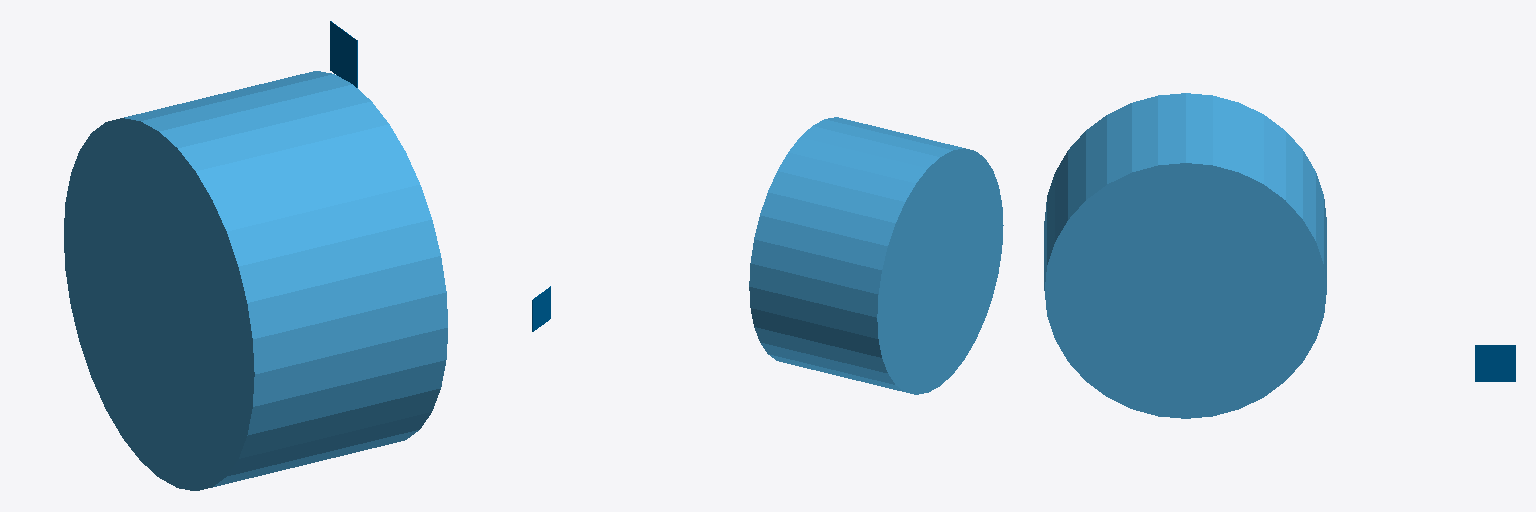
URDF robot description (fanuc_lrmate200id7l):
<?xml version="1.0" ?>
<!-- =================================================================================== -->
<!-- |    This document was autogenerated by xacro from [local-path]/Documents/0LAB/LTL/src/stmotion_controller/simulation/urdf/fanuc_arm.xacro | -->
<!-- |    EDITING THIS FILE BY HAND IS NOT RECOMMENDED                                 | -->
<!-- =================================================================================== -->
<robot name="fanuc_lrmate200id7l">
    <link name="world" />
    <joint name="world_fixed" type="fixed">
        <parent link="world" />
        <child link="base" />
    </joint>
    <!-- ROS-Industrial 'base' frame: base_link to Fanuc World Coordinates transform -->
    <link name="base" />
    <joint name="base_link-base" type="fixed">
        <origin rpy="0 0 0" xyz="0 0 0.0" />
        <parent link="base" />
        <child link="base_link" />
    </joint>
    <!-- links: main serial chain -->
    <link name="base_link">
        <inertial>
            <origin rpy="0 0 0" xyz="-0.073983 0.00022734 0.13031" />
            <mass value="42.212" />
            <inertia ixx="0.64296" ixy="0.0012624" ixz="-0.068804" iyy="1.2709" iyz="-0.0010754" izz="1.3497" />
        </inertial>
        <visual>
            <origin rpy="0 0 0" xyz="0 0 0" />
            <geometry>
                <mesh filename="file://[local-path]/Documents/0LAB/LTL/src/stmotion_controller/simulation/meshes/visual/base_link.stl" />
            </geometry>
            <material name="">
                <color rgba="0.2784313725490196 0.2784313725490196 0.2784313725490196 1.0" />
            </material>
        </visual>
        <collision>
            <origin rpy="0 0 0" xyz="0 0 0" />
            <geometry>
                <mesh filename="file://[local-path]/Documents/0LAB/LTL/src/stmotion_controller/simulation/meshes/collision/base_link.stl" />
            </geometry>
        </collision>
    </link>
    <link name="link_1">
        <inertial>
            <origin rpy="0 0 0" xyz="0.058962 0.24363 -0.018725" />
            <mass value="37.265" />
            <inertia ixx="0.95018" ixy="-0.14402" ixz="-0.064915" iyy="1.0578" iyz="0.037699" izz="1.094" />
        </inertial>
        <visual>
            <origin rpy="0 0 0" xyz="0 0 0" />
            <geometry>
                <mesh filename="file://[local-path]/Documents/0LAB/LTL/src/stmotion_controller/simulation/meshes/visual/link_1.stl" />
            </geometry>
            <material name="">
                <color rgba="0.96 0.76 0.13 1.0" />
            </material>
        </visual>
        <collision>
            <origin rpy="0 0 0" xyz="0 0 0" />
            <geometry>
                <mesh filename="file://[local-path]/Documents/0LAB/LTL/src/stmotion_controller/simulation/meshes/collision/link_1.stl" />
            </geometry>
        </collision>
    </link>
    <link name="link_2">
        <inertial>
            <origin rpy="0 0 0" xyz="3.5083E-05 0.39008 0.15036" />
            <mass value="22.632" />
            <inertia ixx="1.7745" ixy="-0.0054743" ixz="0.00063015" iyy="0.15511" iyz="-0.09224" izz="1.826" />
        </inertial>
        <visual>
            <origin rpy="0 0 0" xyz="0 0 0" />
            <geometry>
                <mesh filename="file://[local-path]/Documents/0LAB/LTL/src/stmotion_controller/simulation/meshes/visual/link_2.stl" />
            </geometry>
            <material name="">
                <color rgba="0.96 0.76 0.13 1.0" />
            </material>
        </visual>
        <collision>
            <origin rpy="0 0 0" xyz="0 0 0" />
            <geometry>
                <mesh filename="file://[local-path]/Documents/0LAB/LTL/src/stmotion_controller/simulation/meshes/collision/link_2.stl" />
            </geometry>
        </collision>
    </link>
    <link name="link_3">
        <inertial>
            <origin rpy="0 0 0" xyz="0.086423 0.14427 -0.035793" />
            <mass value="28.467" />
            <inertia ixx="0.65771" ixy="-0.13627" ixz="-0.026219" iyy="0.52683" iyz="0.051956" izz="0.69722" />
        </inertial>
        <visual>
            <origin rpy="0 0 0" xyz="0 0 0" />
            <geometry>
                <mesh filename="file://[local-path]/Documents/0LAB/LTL/src/stmotion_controller/simulation/meshes/visual/link_3.stl" />
            </geometry>
            <material name="">
                <color rgba="0.96 0.76 0.13 1.0" />
            </material>
        </visual>
        <collision>
            <origin rpy="0 0 0" xyz="0 0 0" />
            <geometry>
                <mesh filename="file://[local-path]/Documents/0LAB/LTL/src/stmotion_controller/simulation/meshes/collision/link_3.stl" />
            </geometry>
        </collision>
    </link>
    <link name="link_4">
        <inertial>
            <origin rpy="0 0 0" xyz="0.37337 0.00033491 0.012656" />
            <mass value="7.629" />
            <inertia ixx="0.018151" ixy="-0.00033527" ixz="-0.031589" iyy="0.48072" iyz="3.3917E-05" izz="0.47647" />
        </inertial>
        <visual>
            <origin rpy="0 0 0" xyz="0 0 0" />
            <geometry>
                <mesh filename="file://[local-path]/Documents/0LAB/LTL/src/stmotion_controller/simulation/meshes/visual/link_4.stl" />
            </geometry>
            <material name="">
                <color rgba="0.96 0.76 0.13 1.0" />
            </material>
        </visual>
        <collision>
            <origin rpy="0 0 0" xyz="0 0 0" />
            <geometry>
                <mesh filename="file://[local-path]/Documents/0LAB/LTL/src/stmotion_controller/simulation/meshes/collision/link_4.stl" />
            </geometry>
        </collision>
    </link>
    <link name="link_5">
        <inertial>
            <origin rpy="0 0 0" xyz="0.062818 3.3289E-05 0.0048991" />
            <mass value="2.5794" />
            <inertia ixx="0.015161" ixy="-2.4835E-06" ixz="0.0016647" iyy="0.021382" iyz="-2.248E-06" izz="0.013473" />
        </inertial>
        <visual>
            <origin rpy="0 0 0" xyz="0 0 0" />
            <geometry>
                <mesh filename="file://[local-path]/Documents/0LAB/LTL/src/stmotion_controller/simulation/meshes/visual/link_5.stl" />
            </geometry>
            <material name="">
                <color rgba="0.96 0.76 0.13 1.0" />
            </material>
        </visual>
        <collision>
            <origin rpy="0 0 0" xyz="0 0 0" />
            <geometry>
                <mesh filename="file://[local-path]/Documents/0LAB/LTL/src/stmotion_controller/simulation/meshes/collision/link_5.stl" />
            </geometry>
        </collision>
    </link>
    <link name="link_6">
        <inertial>
            <origin rpy="0 0 0" xyz="0.00015982 -0.00063018 -0.008266" />
            <mass value="0.10811" />
            <inertia ixx="9.0129E-05" ixy="-1.0891E-08" ixz="9.1598E-09" iyy="9.2026E-05" iyz="-2.749E-07" izz="0.00017818" />
        </inertial>
        <visual>
            <origin rpy="0 0 0" xyz="0 0 0" />
            <geometry>
                <mesh filename="file://[local-path]/Documents/0LAB/LTL/src/stmotion_controller/simulation/meshes/visual/link_6.stl" />
            </geometry>
            <material name="">
                <color rgba="0.15 0.15 0.15 1.0" />
            </material>
        </visual>
        <collision>
            <origin rpy="0 0 0" xyz="0 0 0" />
            <geometry>
                <mesh filename="file://[local-path]/Documents/0LAB/LTL/src/stmotion_controller/simulation/meshes/collision/link_6.stl" />
            </geometry>
        </collision>
    </link>
    <link name="fts">
        <collision>
            <origin rpy=" 0 0 0" xyz="0 0 0" />
            <geometry>
                <cylinder length="0.041" radius="0.035" />
            </geometry>
        </collision>
        <visual>
            <origin rpy="0 0 0" xyz="0 0 0" />
            <geometry>
                <cylinder length="0.041" radius="0.035" />
            </geometry>
        </visual>
        <inertial>
            <mass value="1e-5" />
            <origin rpy="0 0 0" xyz="0 0 0" />
            <inertia ixx="1e-6" ixy="0" ixz="0" iyy="1e-6" iyz="0" izz="1e-6" />
        </inertial>
    </link>
    <link name="link_tool">
        <inertial>
            <origin rpy="0 0 0" xyz="0 0 0" />
            <mass value="0.10811" />
            <inertia ixx="9.0129E-05" ixy="-1.0891E-08" ixz="9.1598E-09" iyy="9.2026E-05" iyz="-2.749E-07" izz="0.00017818" />
        </inertial>
        <visual>
            <origin rpy="0 0 0" xyz="0 0 0" />
            <geometry>
                <mesh filename="file://[local-path]/Documents/0LAB/LTL/src/stmotion_controller/simulation/meshes/visual/tool_base.stl" />
            </geometry>
            <material name="">
                <color rgba="0.15 0.15 0.15 1.0" />
            </material>
        </visual>
        <!-- <collision>
        <origin xyz="0 0 0" rpy="0 0 0"/>
        <geometry>
          <mesh filename="file://$(find stmotion_controller)/simulation/meshes/collision/tool_base.stl"/>
        </geometry>
      </collision> -->
    </link>
    <link name="link_camera">
        <inertial>
            <origin rpy="0 0 0" xyz="0 0 0" />
            <mass value="0.10811" />
            <inertia ixx="9.0129E-05" ixy="-1.0891E-08" ixz="9.1598E-09" iyy="9.2026E-05" iyz="-2.749E-07" izz="0.00017818" />
        </inertial>
        <visual>
            <origin rpy="0 0 0" xyz="0 0 0" />
            <geometry>
                <mesh filename="file://[local-path]/Documents/0LAB/LTL/src/stmotion_controller/simulation/meshes/visual/tool_camera.stl" />
            </geometry>
            <material name="">
                <color rgba="0.15 0.15 0.15 1.0" />
            </material>
        </visual>
        <collision>
            <origin rpy="0 0 0" xyz="0 0 0" />
            <geometry>
                <mesh filename="file://[local-path]/Documents/0LAB/LTL/src/stmotion_controller/simulation/meshes/collision/tool_camera.stl" />
            </geometry>
        </collision>
    </link>
    <link name="link_camera_origin">
        <collision>
            <origin rpy="0 0 0" xyz="0 0 0" />
            <geometry>
                <box size="0.0001 0.0001 0.0001" />
            </geometry>
        </collision>
        <visual>
            <origin rpy="0 0 0" xyz="0 0 0" />
            <geometry>
                <box size="0.0001 0.01 0.01" />
            </geometry>
        </visual>
        <inertial>
            <mass value="1e-5" />
            <origin rpy="0 0 0" xyz="0 0 0" />
            <inertia ixx="1e-6" ixy="0" ixz="0" iyy="1e-6" iyz="0" izz="1e-6" />
        </inertial>
    </link>
    <!-- joints: main serial chain -->
    <joint name="joint_1" type="continuous">
        <origin rpy="0 0 0" xyz="0 0 0.330" />
        <parent link="base_link" />
        <child link="link_1" />
        <axis xyz="0 0 1" />
        <!-- <limit effort="0" lower="${radians(-170)}" upper="${radians(170)}" velocity="${radians(370)}" /> -->
    </joint>
    <joint name="joint_2" type="continuous">
        <origin rpy="0 0 0" xyz="0.050 0 0" />
        <parent link="link_1" />
        <child link="link_2" />
        <axis xyz="0 1 0" />
        <!-- <limit effort="100" lower="${radians(-100)}" upper="${radians(145)}" velocity="${radians(310)}" /> -->
    </joint>
    <joint name="joint_3" type="continuous">
        <origin rpy="0 0 0" xyz="0 0 0.440" />
        <parent link="link_2" />
        <child link="link_3" />
        <axis xyz="0 -1 0" />
        <!-- <limit effort="0" lower="${radians(-70)}" upper="${radians(213)}" velocity="${radians(410)}" /> -->
    </joint>
    <joint name="joint_4" type="continuous">
        <origin rpy="0 0 0" xyz="0 0 0.035" />
        <parent link="link_3" />
        <child link="link_4" />
        <axis xyz="-1 0 0" />
        <!-- <limit effort="0" lower="${radians(-190)}" upper="${radians(190)}" velocity="${radians(550)}" /> -->
    </joint>
    <joint name="joint_5" type="continuous">
        <origin rpy="0 0 0" xyz="0.420 0 0" />
        <parent link="link_4" />
        <child link="link_5" />
        <axis xyz="0 -1 0" />
        <!-- <limit effort="0" lower="${radians(-125)}" upper="${radians(125)}" velocity="${radians(545)}" /> -->
    </joint>
    <joint name="joint_6" type="continuous">
        <origin rpy="0 0 0" xyz="0.080 0 0" />
        <parent link="link_5" />
        <child link="link_6" />
        <axis xyz="-1 0 0" />
        <!-- <limit effort="0" lower="${radians(-360)}" upper="${radians(360)}" velocity="${radians(1000)}" /> -->
    </joint>
    <joint name="link_6_fts" type="fixed">
        <origin rpy="0 1.5707963267948966 0" xyz="0.02185 0 0" />
        <parent link="link_6" />
        <child link="fts" />
    </joint>
    <joint name="fts_tool" type="revolute">
        <origin rpy="0 0 3.141592653589793" xyz="0 0 0.02185" />
        <parent link="fts" />
        <child link="link_tool" />
        <axis xyz="0 0 1" />
        <limit effort="0" lower="0" upper="0" velocity="0" />
    </joint>
    <joint name="tool_camera" type="fixed">
        <origin rpy="-1.5707963267948966 -1.5707963267948966 3.141592653589793" xyz="0 -0.04625 0.028" />
        <parent link="link_tool" />
        <child link="link_camera" />
    </joint>
    <joint name="camera_imgplane" type="fixed">
        <origin rpy="0 0 0" xyz="0.013 0.0 0.0305" />
        <parent link="link_camera" />
        <child link="link_camera_origin" />
    </joint>
    <transmission name="trans_joint_1">
        <type>transmission_interface/SimpleTransmission</type>
        <joint name="joint_1">
            <hardwareInterface>hardware_interface/PositionJointInterface</hardwareInterface>
        </joint>
        <actuator name="joint_1_motor">
            <hardwareInterface>hardware_interface/PositionJointInterface</hardwareInterface>
            <mechanicalReduction>1</mechanicalReduction>
        </actuator>
    </transmission>
    <transmission name="trans_joint_2">
        <type>transmission_interface/SimpleTransmission</type>
        <joint name="joint_2">
            <hardwareInterface>hardware_interface/PositionJointInterface</hardwareInterface>
        </joint>
        <actuator name="joint_2_motor">
            <hardwareInterface>hardware_interface/PositionJointInterface</hardwareInterface>
            <mechanicalReduction>1</mechanicalReduction>
        </actuator>
    </transmission>
    <transmission name="trans_joint_3">
        <type>transmission_interface/SimpleTransmission</type>
        <joint name="joint_3">
            <hardwareInterface>hardware_interface/PositionJointInterface</hardwareInterface>
        </joint>
        <actuator name="joint_3_motor">
            <hardwareInterface>hardware_interface/PositionJointInterface</hardwareInterface>
            <mechanicalReduction>1</mechanicalReduction>
        </actuator>
    </transmission>
    <transmission name="trans_joint_4">
        <type>transmission_interface/SimpleTransmission</type>
        <joint name="joint_4">
            <hardwareInterface>hardware_interface/PositionJointInterface</hardwareInterface>
        </joint>
        <actuator name="joint_4_motor">
            <hardwareInterface>hardware_interface/PositionJointInterface</hardwareInterface>
            <mechanicalReduction>1</mechanicalReduction>
        </actuator>
    </transmission>
    <transmission name="trans_joint_5">
        <type>transmission_interface/SimpleTransmission</type>
        <joint name="joint_5">
            <hardwareInterface>hardware_interface/PositionJointInterface</hardwareInterface>
        </joint>
        <actuator name="joint_5_motor">
            <hardwareInterface>hardware_interface/PositionJointInterface</hardwareInterface>
            <mechanicalReduction>1</mechanicalReduction>
        </actuator>
    </transmission>
    <transmission name="trans_joint_6">
        <type>transmission_interface/SimpleTransmission</type>
        <joint name="joint_6">
            <hardwareInterface>hardware_interface/PositionJointInterface</hardwareInterface>
        </joint>
        <actuator name="joint_6_motor">
            <hardwareInterface>hardware_interface/PositionJointInterface</hardwareInterface>
            <mechanicalReduction>1</mechanicalReduction>
        </actuator>
    </transmission>
    <gazebo>
        <plugin filename="libgazebo_ros_control.so" name="gazebo_ros_control">
            <robotNamespace>/fanuc_gazebo</robotNamespace>
            <robotSimType>gazebo_ros_control/DefaultRobotHWSim</robotSimType>
            <legacyModeNS>true</legacyModeNS>
        </plugin>
    </gazebo>
    <gazebo>
        <provideFeedback>true</provideFeedback>
        <plugin filename="libgazebo_ros_ft_sensor.so" name="ft_sensor">
            <robotNamespace>/fanuc_gazebo</robotNamespace>
            <alwaysOn>true</alwaysOn>
            <updateRate>125.0</updateRate>
            <topicName>ft_sensor</topicName>
            <jointName>fts_tool</jointName>
            <noise>
                <type>gaussian</type>
                <mean>0.0</mean>
                <stddev>0.001</stddev>
            </noise>
        </plugin>
    </gazebo>
    <gazebo reference="link_camera_origin">
        <sensor name="$depth_camera" type="depth">
            <update_rate>30</update_rate>
            <camera>
                <horizontal_fov>1.22173</horizontal_fov>
                <!-- 70deg -->
                <image>
                    <width>1920</width>
                    <height>1080</height>
                    <format>R8G8B8</format>
                </image>
                <clip>
                    <near>0.01</near>
                    <far>2</far>
                </clip>
            </camera>
            <plugin filename="libgazebo_ros_openni_kinect.so" name="$depth_camera_controller">
                <baseline>0.2</baseline>
                <alwaysOn>true</alwaysOn>
                <updateRate>0</updateRate>
                <cameraName>wrist_camera</cameraName>
                <imageTopicName>/fanuc_wrist_camera/depth/image_raw</imageTopicName>
                <cameraInfoTopicName>/fanuc_wrist_camera/depth/camera_info</cameraInfoTopicName>
                <depthImageTopicName>/fanuc_wrist_camera/depth/depth_image_raw</depthImageTopicName>
                <depthImageInfoTopicName>/fanuc_wrist_camera/depth/depth_camera_info</depthImageInfoTopicName>
                <pointCloudTopicName>/fanuc_wrist_camera/depth/depth_camera_points</pointCloudTopicName>
                <frameName>depth_camera_link</frameName>
                <pointCloudCutoff>0.25</pointCloudCutoff>
                <pointCloudCutoffMax>2.0</pointCloudCutoffMax>
                <distortionK1>0</distortionK1>
                <distortionK2>0</distortionK2>
                <distortionK3>0</distortionK3>
                <distortionT1>0</distortionT1>
                <distortionT2>0</distortionT2>
                <CxPrime>0</CxPrime>
                <Cx>0</Cx>
                <Cy>0</Cy>
                <focalLength>0</focalLength>
                <hackBaseline>0</hackBaseline>
            </plugin>
        </sensor>
    </gazebo>
    <gazebo reference="link_1">
        <material>Gazebo/Yellow</material>
        <visual>
            <transparency>0</transparency>
        </visual>
    </gazebo>
    <gazebo reference="link_2">
        <material>Gazebo/Yellow</material>
        <visual>
            <transparency>0</transparency>
        </visual>
    </gazebo>
    <gazebo reference="link_3">
        <material>Gazebo/Yellow</material>
        <visual>
            <transparency>0</transparency>
        </visual>
    </gazebo>
    <gazebo reference="link_4">
        <material>Gazebo/Yellow</material>
        <visual>
            <transparency>0</transparency>
        </visual>
    </gazebo>
    <gazebo reference="link_5">
        <material>Gazebo/Yellow</material>
        <visual>
            <transparency>0</transparency>
        </visual>
    </gazebo>
    <gazebo reference="link_6">
        <material>Gazebo/Black</material>
        <visual>
            <transparency>0</transparency>
        </visual>
    </gazebo>
    <gazebo reference="base_link">
        <material>Gazebo/Yellow</material>
        <visual>
            <transparency>0</transparency>
        </visual>
    </gazebo>
    <gazebo reference="link_tool0">
        <material>Gazebo/Black</material>
        <visual>
            <transparency>0</transparency>
        </visual>
    </gazebo>
    <gazebo reference="fts">
        <material>Gazebo/Black</material>
        <visual>
            <transparency>0</transparency>
        </visual>
    </gazebo>
    <gazebo reference="link_camera_origin">
        <material>Gazebo/Black</material>
        <visual>
            <transparency>0</transparency>
        </visual>
    </gazebo>
    <transmission name="trans_fts_tool">
        <type>transmission_interface/SimpleTransmission</type>
        <joint name="fts_tool">
            <hardwareInterface>hardware_interface/EffortJointInterface</hardwareInterface>
        </joint>
        <actuator name="fts_tool_motor">
            <hardwareInterface>hardware_interface/EffortJointInterface</hardwareInterface>
            <mechanicalReduction>1</mechanicalReduction>
        </actuator>
    </transmission>
</robot>

--- Facts derived from the render (not from the file) ---
3 views of the same robot in one strip: view 1: azimuth 30°, elevation 25°; view 2: azimuth 150°, elevation 25°; view 3: azimuth 270°, elevation 25° (orthographic).
Model fanuc_lrmate200id7l with 13 links and 12 joints (1 revolute, 6 continuous, 5 fixed), rooted at world, posed every joint at zero.
Visible links, largest first — view 1: fts, link_camera_origin; view 2: fts, link_camera_origin; view 3: fts, link_camera_origin.
Link boxes in pixels (x1,y1,x2,y2): fts: (64,71,447,490); link_camera_origin: (330,21,357,87); fts: (749,117,1003,394); link_camera_origin: (532,286,550,331); fts: (1044,93,1326,418); link_camera_origin: (1475,345,1515,381).
Bounding box of the posed robot: 0.0834 × 0.1168 × 0.07 m (x, y, z).
Geometry: only primitive shapes (box / cylinder / sphere) drawn; not drawn: 9 mesh visuals (reference in a form the renderer does not follow).